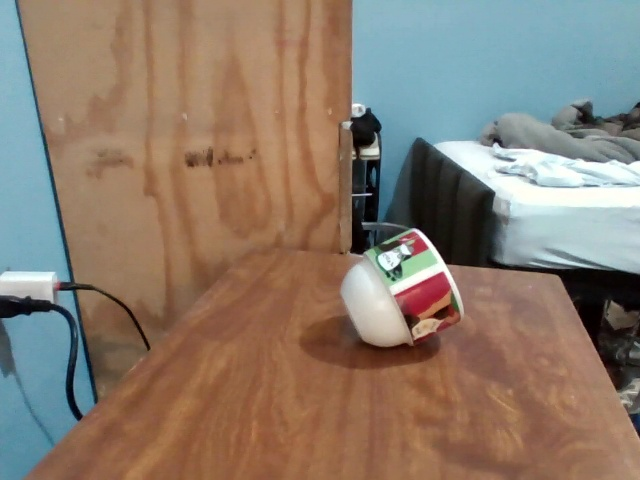taza: (336, 220, 467, 354)
